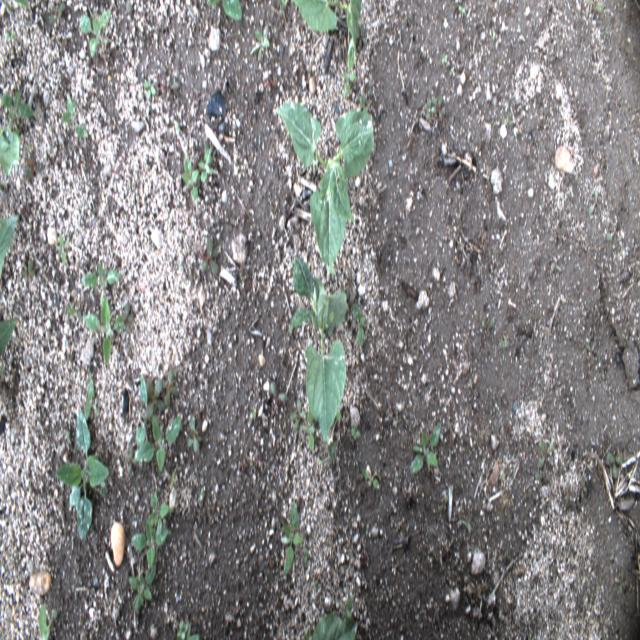crop: (275, 98, 374, 272), (292, 257, 349, 445), (291, 0, 363, 71), (310, 613, 359, 639)
weed: (56, 407, 112, 548), (130, 412, 184, 479), (84, 292, 133, 364), (137, 363, 179, 423), (407, 415, 443, 472), (132, 517, 164, 578), (76, 11, 110, 66), (280, 503, 304, 578), (144, 486, 174, 537), (125, 572, 157, 617), (178, 153, 200, 215), (533, 441, 561, 486), (0, 85, 38, 118), (603, 434, 627, 485), (0, 215, 21, 272), (199, 234, 225, 279), (0, 124, 23, 172), (82, 261, 120, 290), (205, 1, 242, 24), (352, 295, 369, 344), (250, 28, 271, 66), (60, 96, 79, 133), (300, 416, 316, 459), (38, 602, 57, 637), (340, 72, 364, 98), (268, 378, 288, 409), (422, 94, 444, 122), (160, 73, 182, 101), (0, 317, 17, 353), (188, 406, 200, 456), (338, 596, 355, 630), (200, 149, 214, 187), (59, 227, 71, 270), (84, 376, 95, 420), (292, 393, 305, 430), (173, 620, 200, 637), (585, 187, 600, 217), (76, 117, 93, 142), (22, 258, 39, 282), (142, 76, 156, 105), (363, 467, 379, 492), (48, 7, 68, 26), (589, 2, 606, 22), (168, 469, 182, 492), (438, 48, 452, 70), (356, 25, 368, 49), (351, 422, 363, 444), (12, 1, 32, 14), (66, 299, 79, 317), (457, 3, 469, 18)
